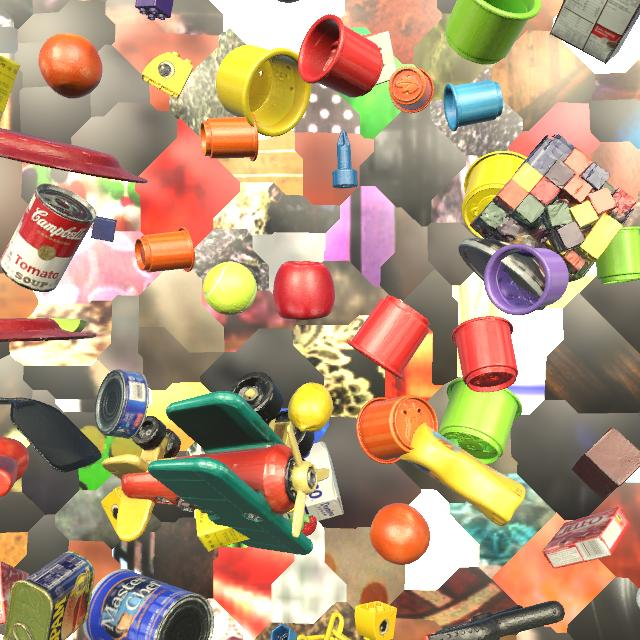ycb_002_master_chef_can: (83, 569, 214, 640)
ycb_004_sugar_box: (196, 441, 344, 552), (0, 55, 20, 121)
ycb_005_tomato_soup_can: (0, 183, 97, 292)
ycb_006_mustard_bottle: (400, 423, 526, 526)
ycb_007_tuna_fish_can: (95, 369, 150, 439)
ycb_008_pudding_box: (550, 0, 640, 64)
ycb_009_gelatin_box: (542, 507, 630, 569), (0, 561, 29, 635)
ycb_010_potted_meat_can: (3, 551, 95, 640)
ycb_012_strawberry: (287, 514, 317, 536)
ycb_013_apple: (273, 261, 335, 320)
ycb_014_lemon: (288, 383, 333, 432)
ycb_016_pear: (277, 0, 300, 3)
ycb_017_orange: (38, 33, 103, 99), (370, 503, 430, 565)
